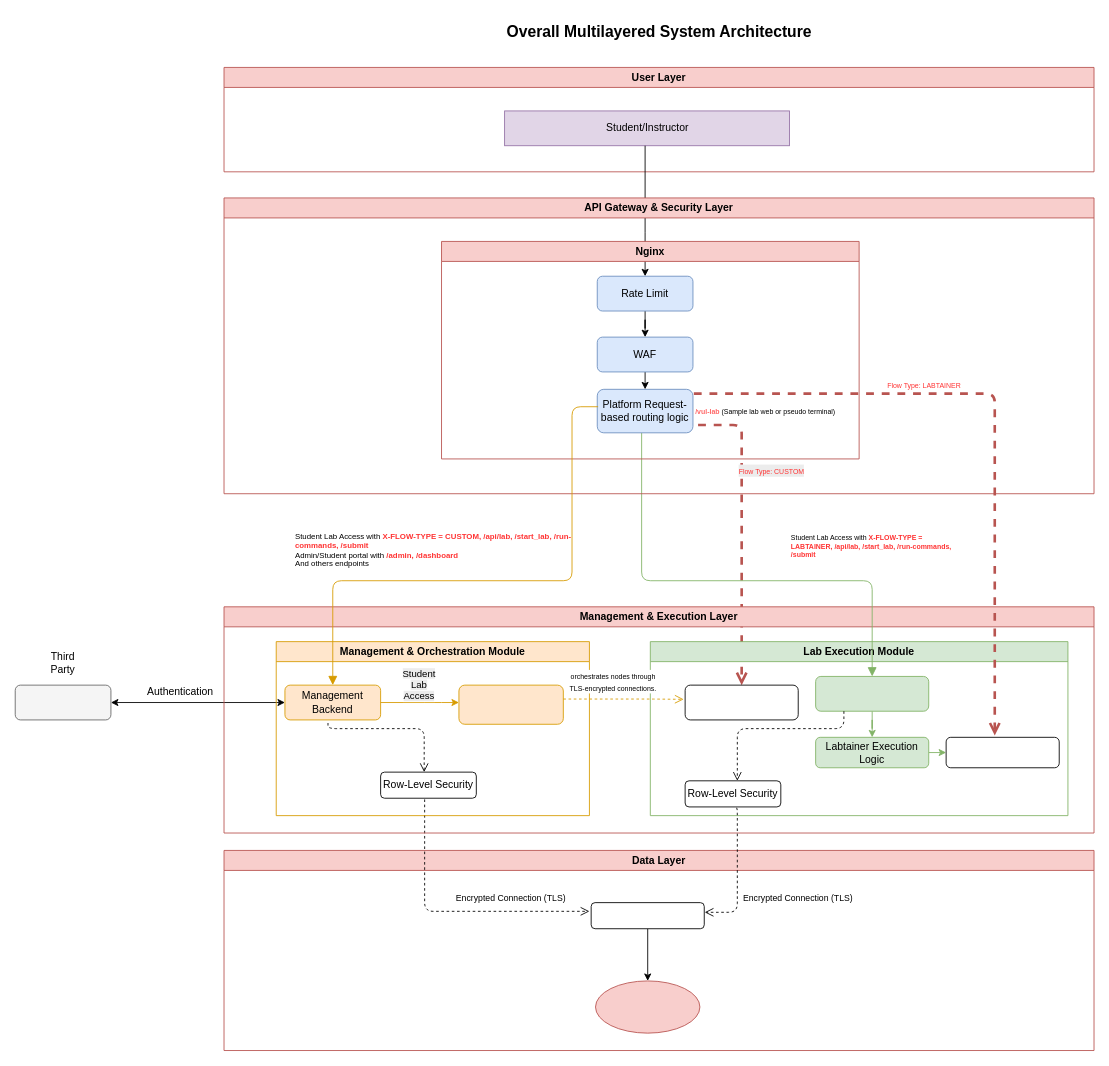
Image size: 1109x1066. Some labels were removed from this diagram. Here are the shapes that lost their labels. From the top down, the centre of each, then its label:
At [62,702]: "Google OIDC Provider".
At [510,704]: "Docker Swarm Manager".
At [741,702]: "Custom Docker Containers".
At [872,693]: "Labtainer Execution Backend".
At [1002,752]: "Labtainer Docker Containers".
At [647,915]: "Data-at-Rest Encryption".
At [647,1006]: "MySQL Database".
